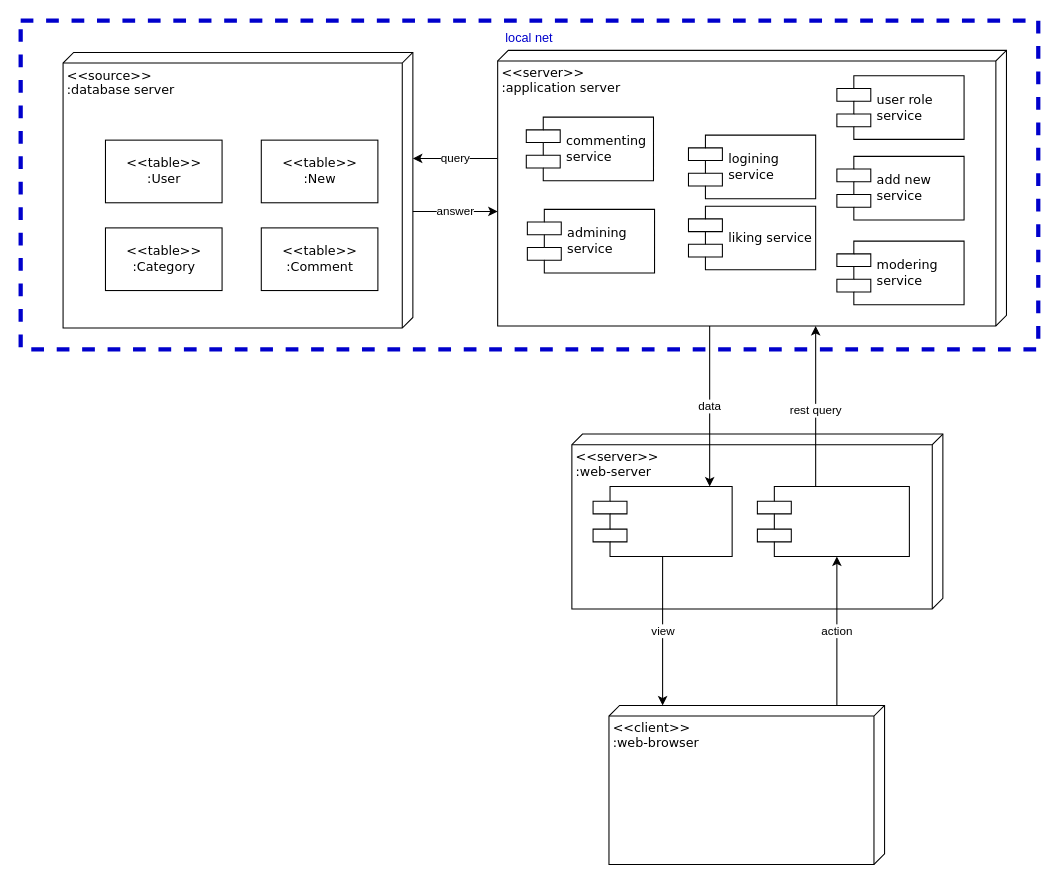
Some shapes in this 1058 by 883 pixel diagram are drawn without their labels. Each missing label, with the centre of its shape:
"call service" belongs at point (832, 520).
"view service" belongs at point (662, 520).
